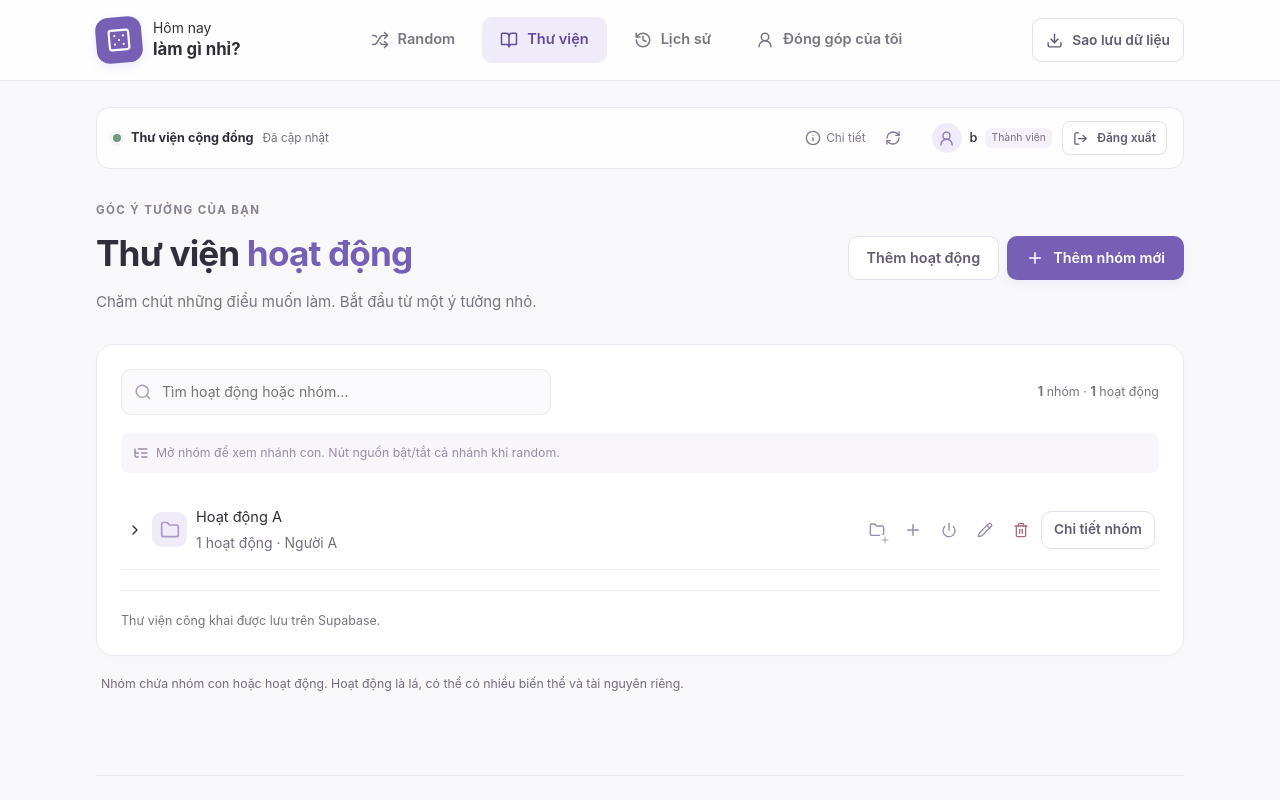
UI cộng đồng › chặn xóa nhánh có đóng góp phụ thuộc trước khi gửi request
Expected: the button named "Tải lại thư viện" is enabled, [878,120,908,156]
Click the button named "Xóa Hoạt động A" at (1021, 530), box [1005,511,1038,549]
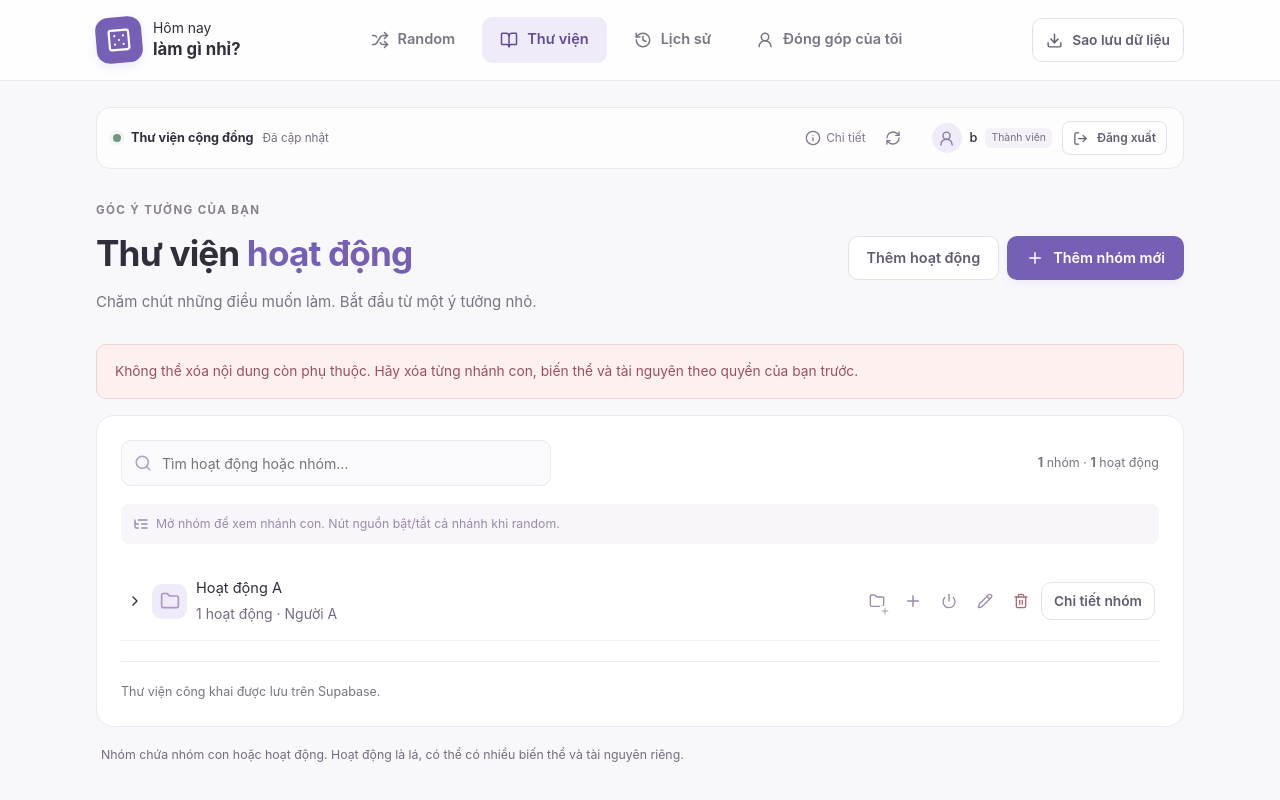
Result: the 2nd message shows "còn phụ thuộc" at [115,363,858,379]
